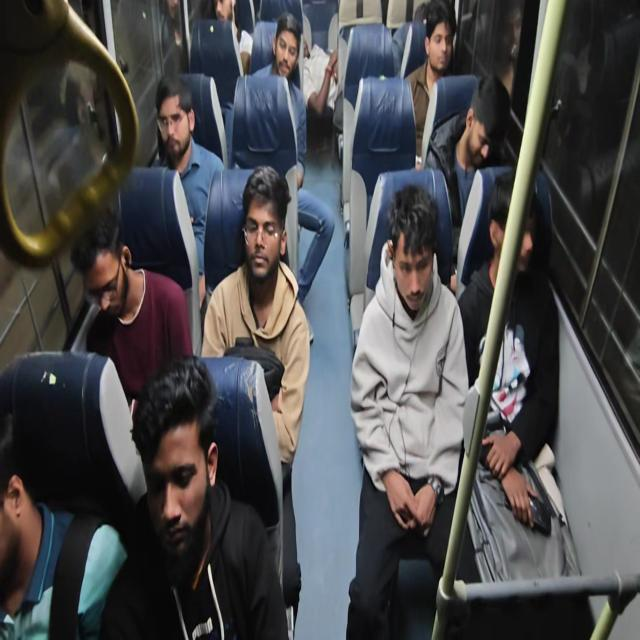person: (132, 355, 236, 558), (208, 166, 312, 322), (360, 174, 466, 327), (65, 200, 155, 360), (0, 380, 60, 589), (464, 185, 544, 331), (456, 77, 530, 195), (147, 86, 210, 190), (268, 6, 307, 94), (213, 0, 253, 54), (426, 13, 461, 72), (408, 0, 426, 34)
